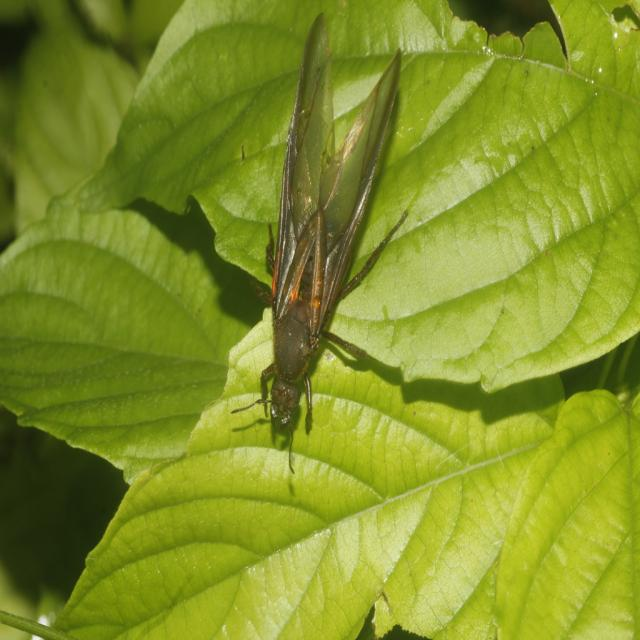Alive-Female-Alate: (230, 8, 410, 476)
